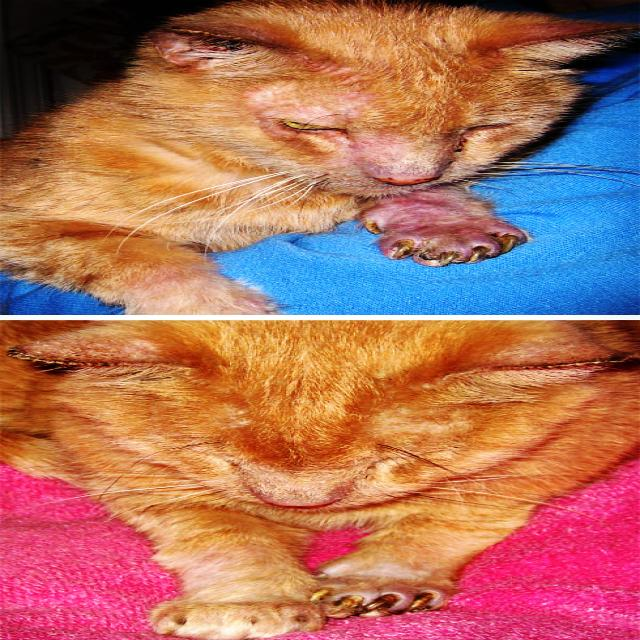ringworm: (387, 196, 519, 246), (263, 85, 346, 132)
